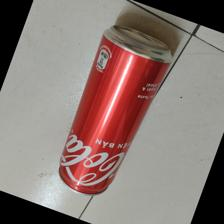Coca: (56, 24, 173, 199)
